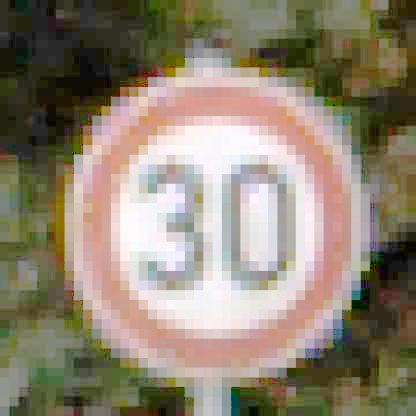Speed Limit -30-: (62, 63, 369, 377)
